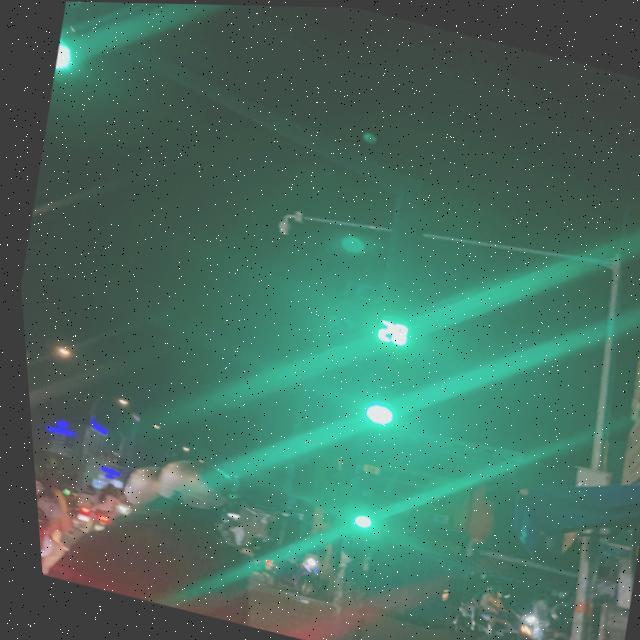Green: (339, 349, 416, 443), (325, 464, 386, 542)
